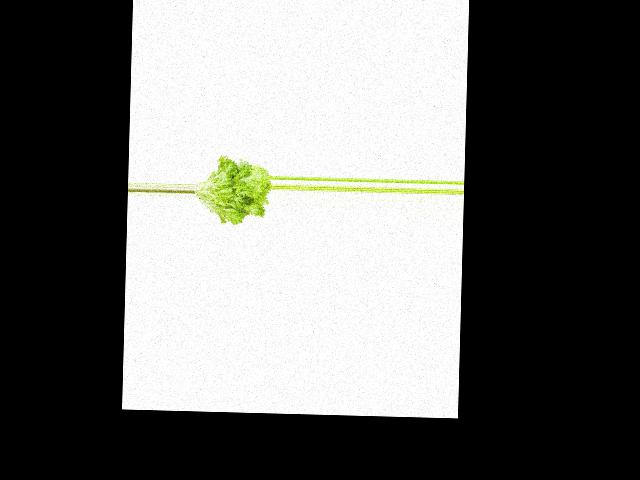lettuce: (191, 154, 271, 229)
